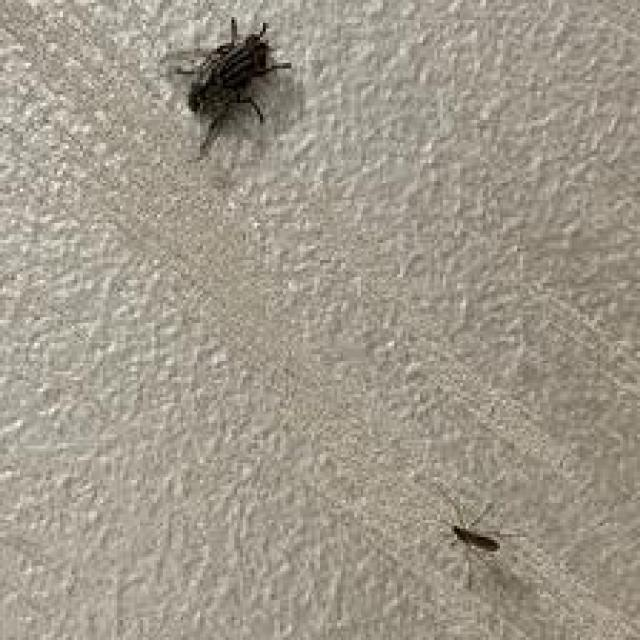Culex: (158, 14, 293, 160)
